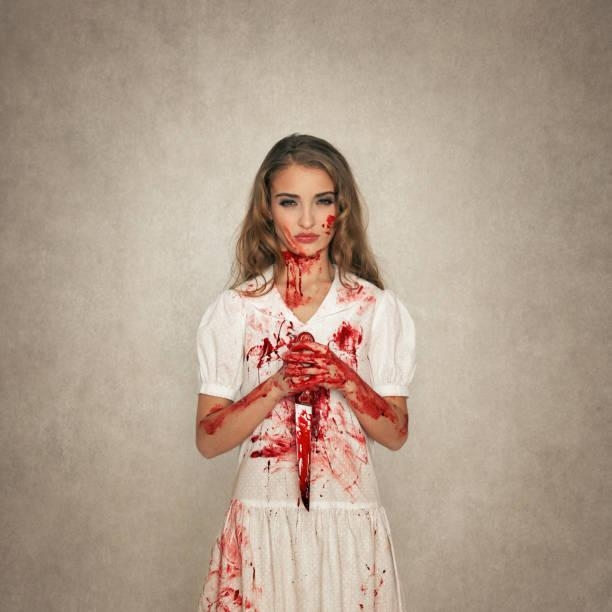Fire: (197, 211, 408, 510), (199, 501, 267, 612), (359, 508, 403, 612)
